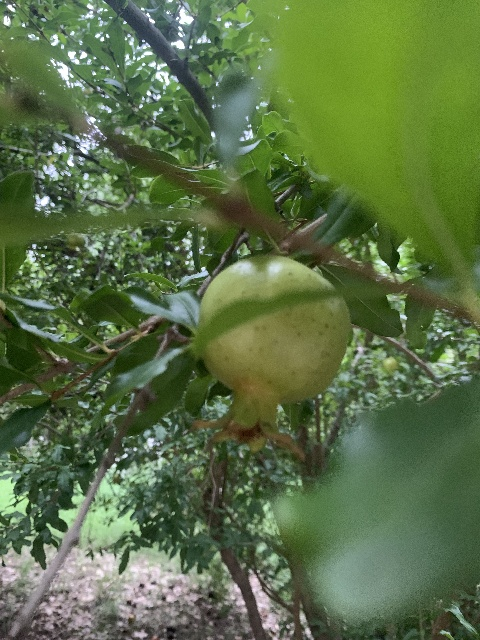mid-growth: (189, 254, 352, 458)
